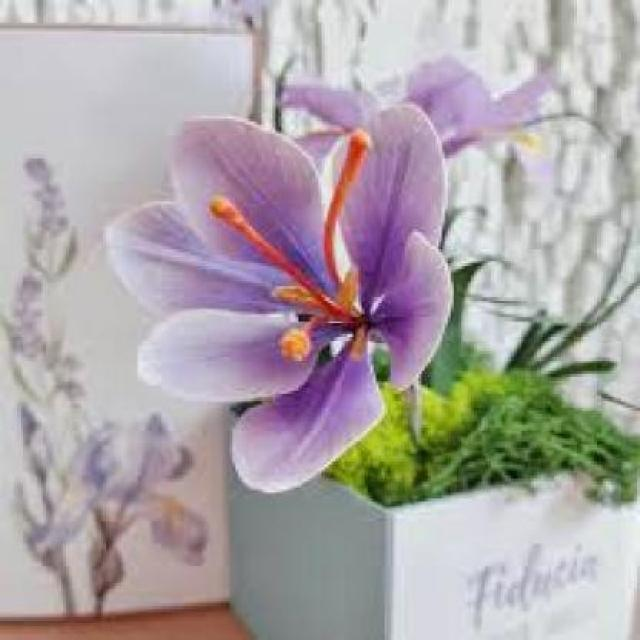Flower: (106, 101, 459, 487)
stigma: (210, 187, 330, 310), (319, 129, 366, 292)
